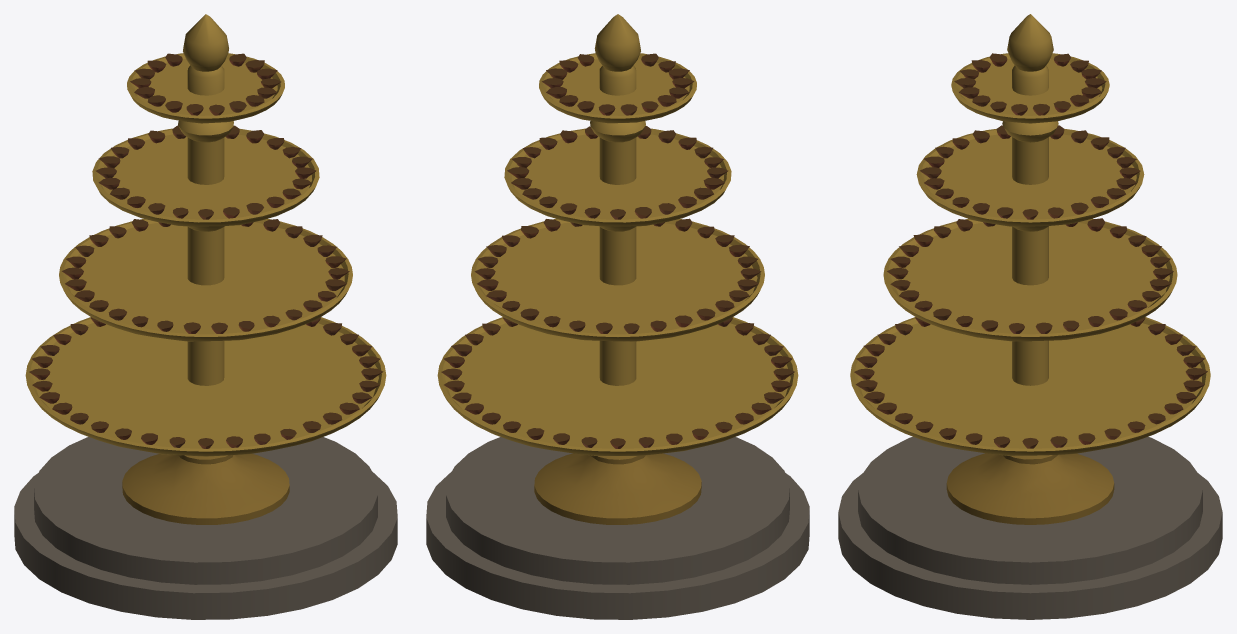
Rendered from deepa-stand.glb.
3 renders of one model, left to right at view 1: azimuth 30°, elevation 25°; view 2: azimuth 150°, elevation 25°; view 3: azimuth 270°, elevation 25°, orthographic.
Parts seen in each view (by area): view 1: deepa-stand; view 2: deepa-stand; view 3: deepa-stand.
Boxes of the visible parts, x1,y1,x2,y2 form: deepa-stand: [14, 14, 397, 619]; deepa-stand: [426, 14, 809, 619]; deepa-stand: [838, 14, 1222, 619].
Bounding box in the file's own units: 1.56 × 2.35 × 1.56.
